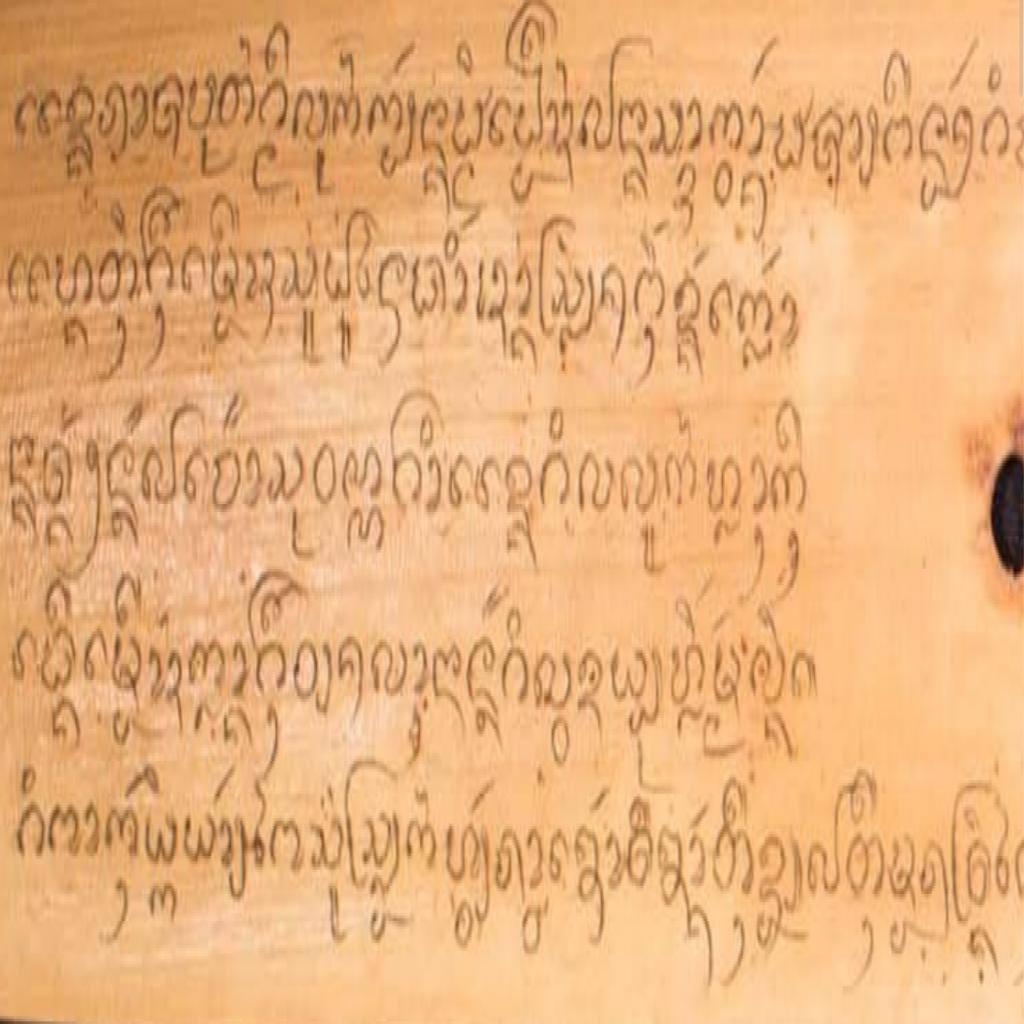LN034: (369, 632, 411, 704)
